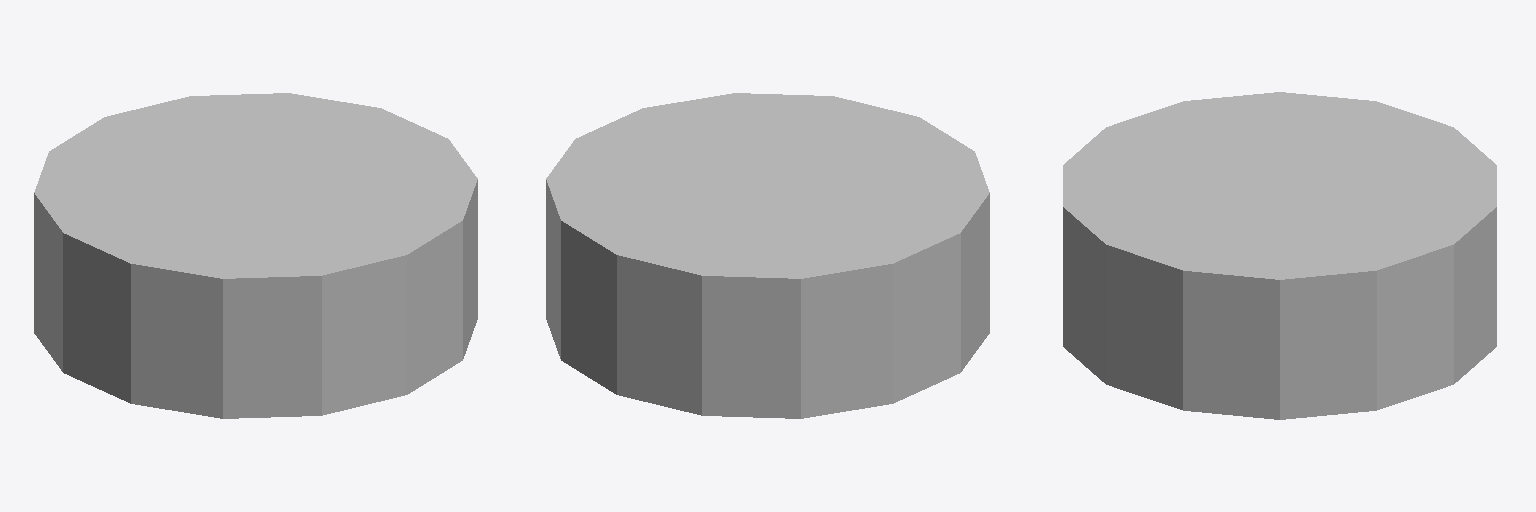
The model's file is puente_boton.obj.
3 views of the same model, side by side, from view 1: azimuth 30°, elevation 25°; view 2: azimuth 150°, elevation 25°; view 3: azimuth 270°, elevation 25° (orthographic).
Visible parts, largest first — view 1: puente_boton; view 2: puente_boton; view 3: puente_boton.
Boxes of the visible parts, x1=… form: puente_boton: x1=34, y1=93, x2=477, y2=418; puente_boton: x1=546, y1=93, x2=989, y2=418; puente_boton: x1=1063, y1=92, x2=1496, y2=419.
Bounding box in the file's own units: 7.26 × 2.52 × 7.08.